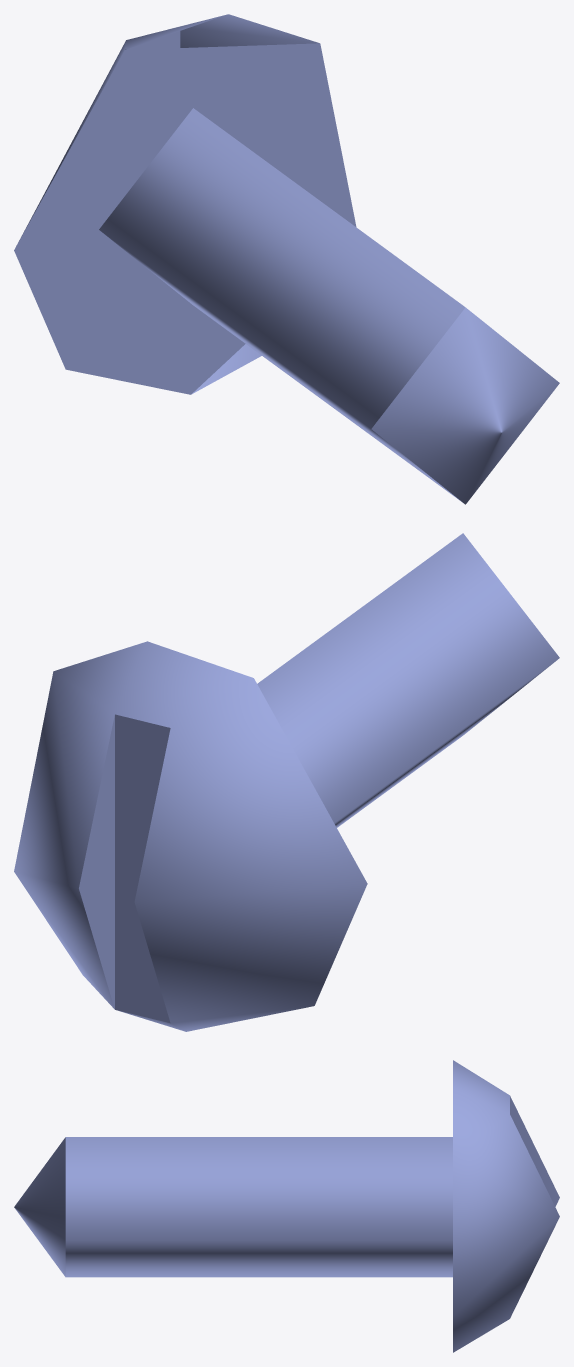
File: Copie de vis cadran^Horloge Comtoise Verge - Sonnerie_instance_2.obj
The picture shows the model from 3 angles, top to bottom: view 1: azimuth 30°, elevation 25°; view 2: azimuth 150°, elevation 25°; view 3: azimuth 270°, elevation 25°; orthographic projection. The views are drawn at different scales.
Parts seen in each view (by area): view 1: Face_3, Face_1, Face_2, Face_4; view 2: Face_4, Face_1, Face_7, Face_5; view 3: Face_1, Face_4, Face_2, Face_6.
Part boxes in pixels (x1,y1,x2,y2): Face_3: (14,43,356,394); Face_1: (99,108,465,503); Face_2: (371,307,559,504); Face_4: (16,14,319,394); Face_4: (14,641,367,1031); Face_1: (257,533,559,827); Face_7: (115,714,170,1023); Face_5: (79,715,114,1009); Face_1: (65,1137,452,1277); Face_4: (453,1060,559,1352); Face_2: (14,1137,65,1276); Face_6: (510,1096,559,1206).
Bounding box in the file's own units: 0.00548 × 0.00564 × 0.0106.
